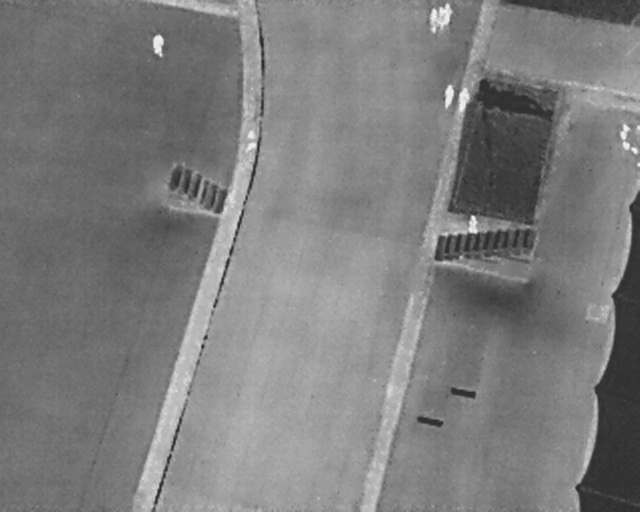Person: (455, 85, 471, 114), (441, 80, 455, 111), (151, 33, 166, 57), (428, 7, 439, 35), (246, 129, 259, 152), (443, 4, 454, 28), (437, 4, 446, 31), (468, 213, 479, 233)
